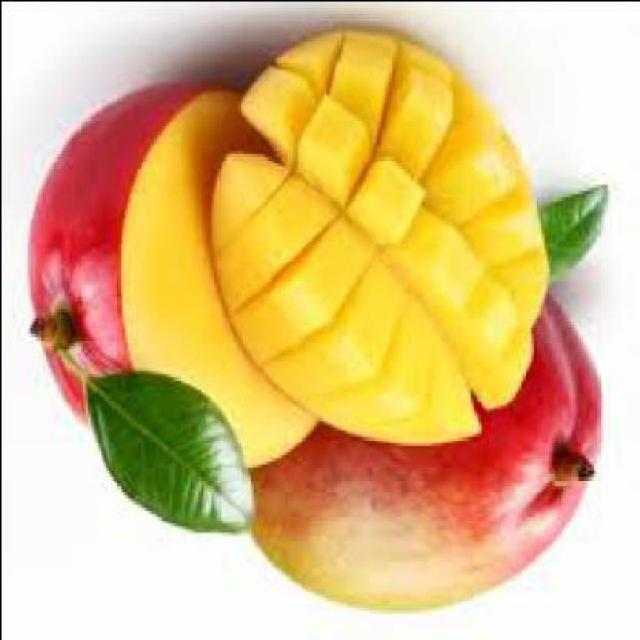BIODEGRADABLE: (215, 28, 551, 447), (29, 80, 322, 472), (252, 292, 603, 616), (87, 373, 255, 535), (538, 184, 608, 288)
